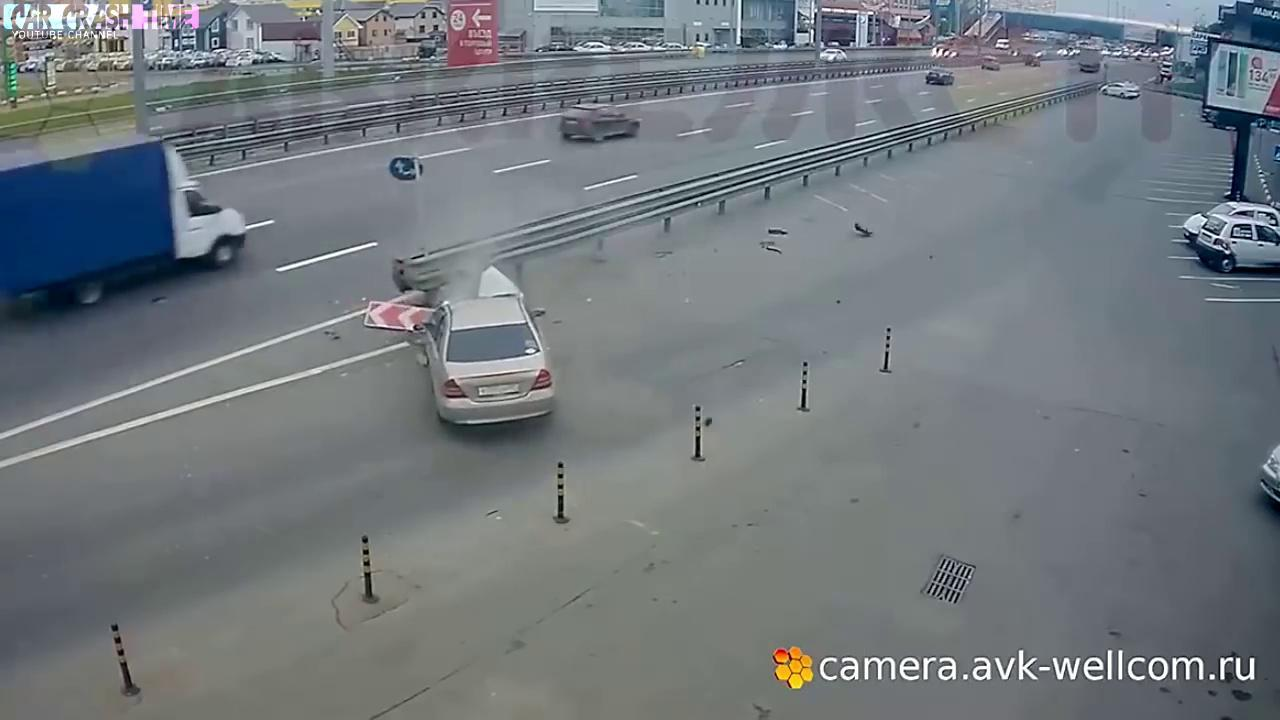car-accident: (382, 234, 572, 434)
